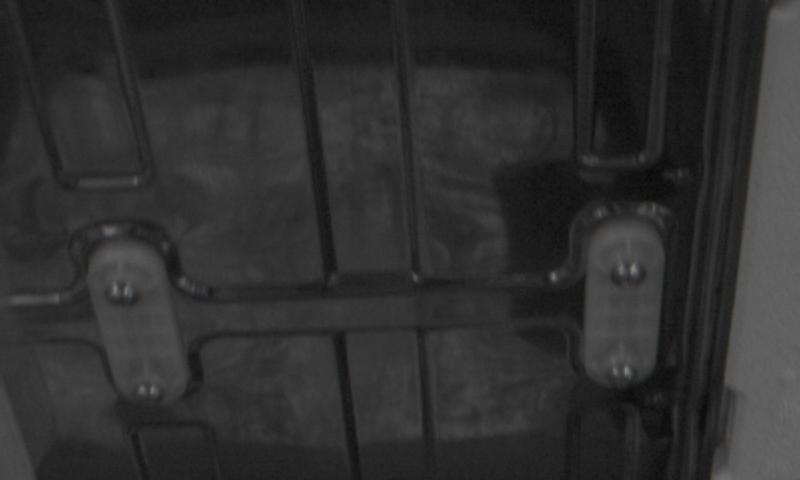vida-ok: (604, 253, 651, 297), (101, 272, 147, 316), (598, 355, 644, 394), (122, 375, 167, 414)
